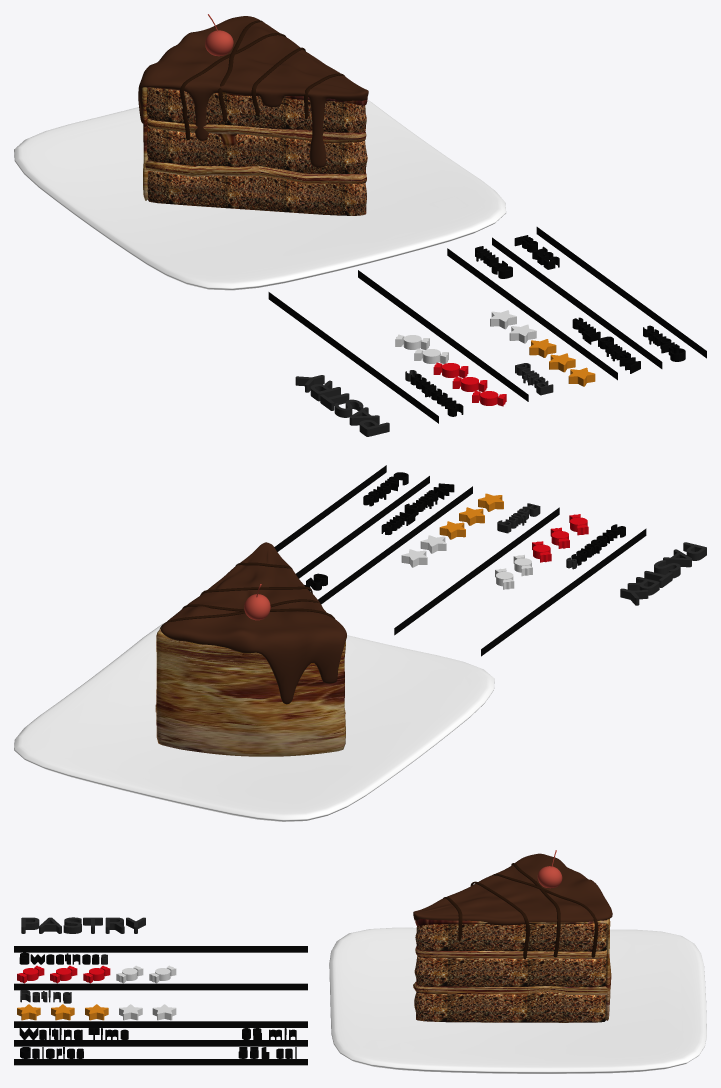
Rendered from cake.glb.
3 views of the same model, one above another, from view 1: azimuth 30°, elevation 25°; view 2: azimuth 150°, elevation 25°; view 3: azimuth 270°, elevation 25° (orthographic). The views are drawn at different scales.
Visible parts, largest first — view 1: Box001, Group001, Cylinder001, Cylinder003, Cylinder005, Cylinder002, Cylinder004, Curve.215_Curve.686, Curve.316_Curve.373, Curve.260_Curve.730, Curve.250_Curve.720, Curve.291_Curve.348 (+5 smaller); view 2: Box001, Cylinder006, Group001, Curve.215_Curve.686, Curve.291_Curve.348, Curve.227_Curve.697, Curve.316_Curve.373, Curve.223_Curve.693, Curve.250_Curve.720, Curve.268_Curve.738, Curve.260_Curve.730, Curve.262_Curve.732 (+1 smaller); view 3: Box001, Group001, Cylinder003, Cylinder001, Cylinder005, Curve.291_Curve.348, Curve.316_Curve.373, Curve.227_Curve.697, Curve.250_Curve.720, Curve.260_Curve.730, Cylinder002, Curve.215_Curve.686 (+9 smaller).
Part boxes in pixels (x1=…): Box001: x1=14, y1=99, x2=506, y2=290; Group001: x1=138, y1=16, x2=368, y2=167; Cylinder001: x1=147, y1=171, x2=366, y2=215; Cylinder003: x1=147, y1=127, x2=367, y2=174; Cylinder005: x1=146, y1=88, x2=366, y2=132; Cylinder002: x1=145, y1=160, x2=366, y2=184; Cylinder004: x1=147, y1=118, x2=366, y2=145; Curve.215_Curve.686: x1=295, y1=375, x2=389, y2=436; Curve.316_Curve.373: x1=447, y1=248, x2=617, y2=380; Curve.260_Curve.730: x1=536, y1=227, x2=706, y2=358; Curve.250_Curve.720: x1=492, y1=237, x2=662, y2=368; Curve.291_Curve.348: x1=358, y1=270, x2=528, y2=401; Box001: x1=14, y1=623, x2=494, y2=821; Cylinder006: x1=156, y1=627, x2=345, y2=756; Group001: x1=161, y1=542, x2=346, y2=704; Curve.215_Curve.686: x1=620, y1=542, x2=706, y2=605; Curve.291_Curve.348: x1=394, y1=507, x2=559, y2=635; Curve.227_Curve.697: x1=481, y1=528, x2=646, y2=656; Curve.316_Curve.373: x1=318, y1=486, x2=472, y2=604; Curve.223_Curve.693: x1=439, y1=493, x2=503, y2=539; Curve.250_Curve.720: x1=296, y1=476, x2=429, y2=578; Curve.268_Curve.738: x1=532, y1=514, x2=588, y2=562; Curve.260_Curve.730: x1=274, y1=465, x2=386, y2=551; Curve.262_Curve.732: x1=497, y1=503, x2=540, y2=533; Box001: x1=329, y1=927, x2=706, y2=1073; Group001: x1=413, y1=853, x2=612, y2=925; Cylinder003: x1=414, y1=956, x2=606, y2=987; Cylinder001: x1=414, y1=991, x2=606, y2=1022; Cylinder005: x1=415, y1=923, x2=607, y2=951; Curve.291_Curve.348: x1=14, y1=983, x2=307, y2=990; Curve.316_Curve.373: x1=14, y1=1021, x2=307, y2=1027; Curve.227_Curve.697: x1=14, y1=946, x2=307, y2=952; Curve.250_Curve.720: x1=14, y1=1040, x2=307, y2=1046; Curve.260_Curve.730: x1=14, y1=1059, x2=307, y2=1065; Cylinder002: x1=413, y1=982, x2=607, y2=995; Curve.215_Curve.686: x1=21, y1=917, x2=145, y2=933.
Size of the model in its own units: 0.2023 by 0.0952 by 0.4035.
Materials: 12 (2 with a texture image).
